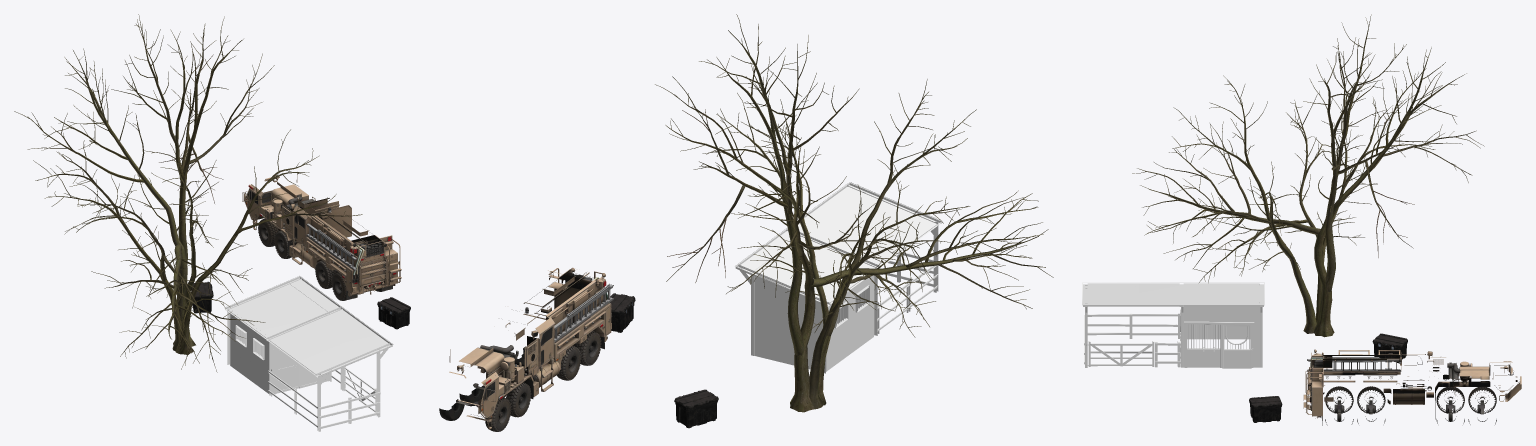
File: fire.glb
3 views of the same model, side by side, from view 1: azimuth 30°, elevation 25°; view 2: azimuth 150°, elevation 25°; view 3: azimuth 270°, elevation 25° (orthographic). The views are drawn at different scales.
Parts seen in each view (by area): view 1: tree_cluster, mesh_shedDoor, militaryFiretruck.001, militaryCrate; view 2: tree_cluster, mesh_shedDoor, militaryFiretruck.001, militaryCrate; view 3: tree_cluster, mesh_shedDoor, militaryFiretruck.001, militaryCrate.
Part boxes in pixels (x1,y1,x2,y2): tree_cluster: (14, 14, 362, 372); mesh_shedDoor: (224, 276, 393, 431); militaryFiretruck.001: (242, 173, 401, 300); militaryCrate: (191, 281, 410, 329); tree_cluster: (655, 14, 1053, 412); mesh_shedDoor: (735, 182, 942, 373); militaryFiretruck.001: (439, 267, 613, 431); militaryCrate: (610, 293, 718, 428); tree_cluster: (1132, 14, 1484, 337); mesh_shedDoor: (1082, 282, 1264, 368); militaryFiretruck.001: (1303, 349, 1521, 425); militaryCrate: (1249, 333, 1407, 422).
Size of what is drawn, in the model's own units: 17.58 by 15.19 by 19.5.
Materials: 5 (4 with a texture image).
